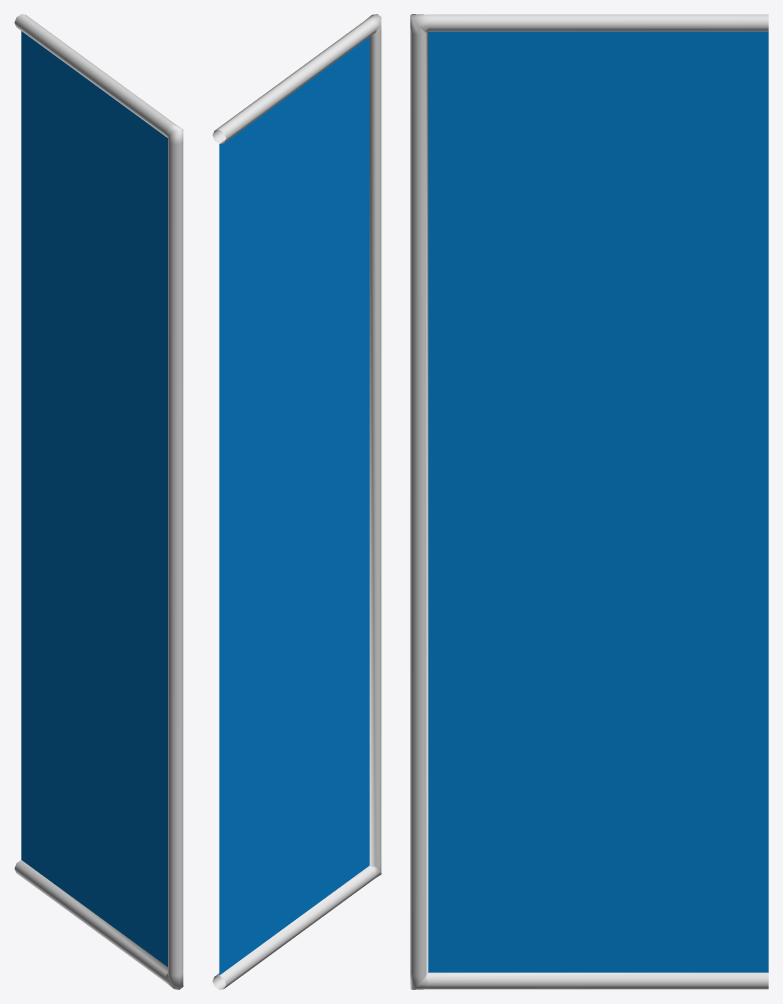
The model's file is Glass_Hori-corn.fbx.
The picture shows the model from 3 angles, left to right: view 1: azimuth 30°, elevation 25°; view 2: azimuth 150°, elevation 25°; view 3: azimuth 270°, elevation 25°; orthographic projection. The views are drawn at different scales.
Parts seen in each view (by area): view 1: Wall_Glass_Verti-Corner; view 2: Wall_Glass_Verti-Corner; view 3: Wall_Glass_Verti-Corner.
Boxes of the visible parts, left/top/right/bottom form: Wall_Glass_Verti-Corner: left=14, top=14, right=183, bottom=989; Wall_Glass_Verti-Corner: left=212, top=14, right=381, bottom=989; Wall_Glass_Verti-Corner: left=410, top=14, right=768, bottom=989.
Size of the model in its own units: 5 by 300 by 100.
